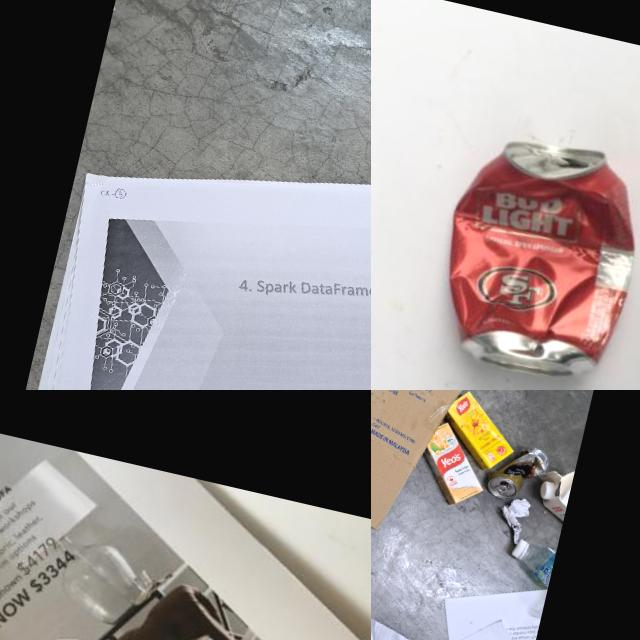aba de lata: (493, 484, 506, 494)
caixinha: (436, 390, 524, 476), (413, 420, 496, 510), (530, 460, 576, 530)
garrafa plástica: (513, 542, 557, 618)
lata: (419, 121, 640, 390), (484, 440, 551, 507)
papel: (20, 99, 371, 390), (0, 390, 371, 640), (434, 563, 547, 640), (404, 604, 537, 640), (371, 580, 448, 640), (492, 493, 532, 545)
papelão: (371, 390, 533, 548), (114, 0, 371, 70)
tampa plástica: (511, 538, 528, 560)
